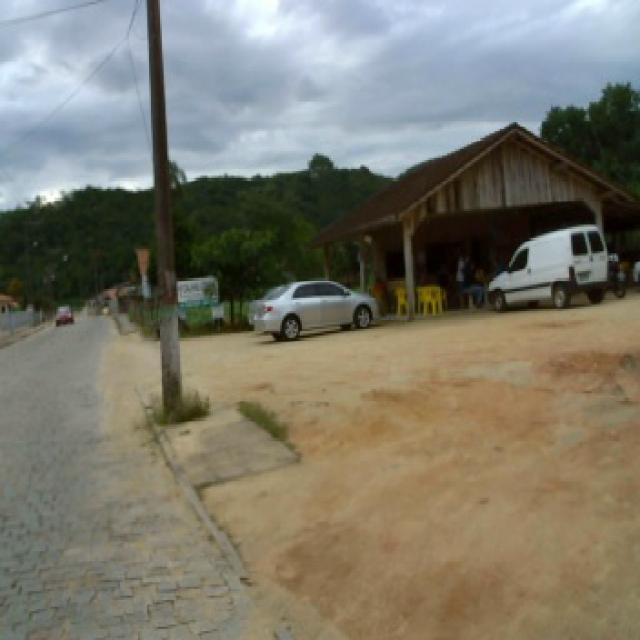Poth-hole: (548, 351, 636, 373), (609, 380, 631, 404)
